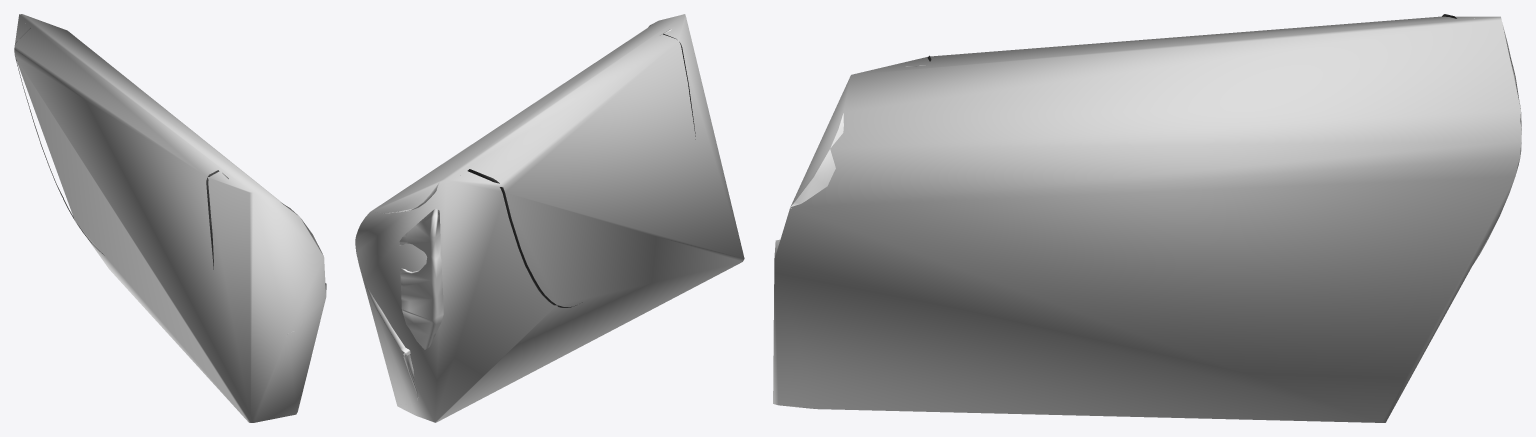
3 renders of one model, left to right at view 1: azimuth 30°, elevation 25°; view 2: azimuth 150°, elevation 25°; view 3: azimuth 270°, elevation 25°, orthographic. The views are drawn at different scales.
Visible parts, largest first — view 1: panel_eclipse_door_r_01_col, panel_eclipse_door_r_01; view 2: panel_eclipse_door_r_01_col, panel_eclipse_door_r_01; view 3: panel_eclipse_door_r_01_col, panel_eclipse_door_r_01.
Part boxes in pixels (bbox=[...]): panel_eclipse_door_r_01_col: bbox=[14, 14, 325, 422]; panel_eclipse_door_r_01: bbox=[15, 23, 326, 334]; panel_eclipse_door_r_01_col: bbox=[355, 14, 744, 422]; panel_eclipse_door_r_01: bbox=[355, 21, 695, 404]; panel_eclipse_door_r_01_col: bbox=[773, 16, 1521, 422]; panel_eclipse_door_r_01: bbox=[774, 14, 1521, 408].
Bounding box in the file's own units: 0.3411 × 0.7504 × 1.41.
Materials: 3 (3 with a texture image).
